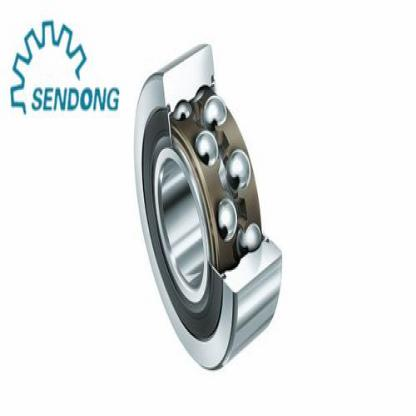FOD: (128, 35, 286, 374)
